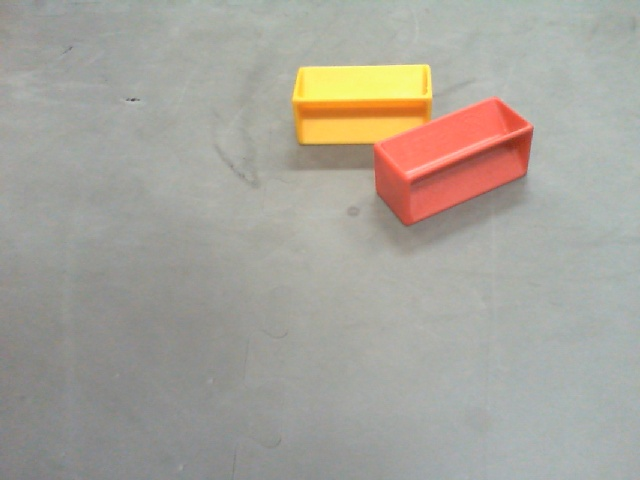RedSample: (371, 97, 536, 224)
YellowSample: (295, 65, 433, 142)
